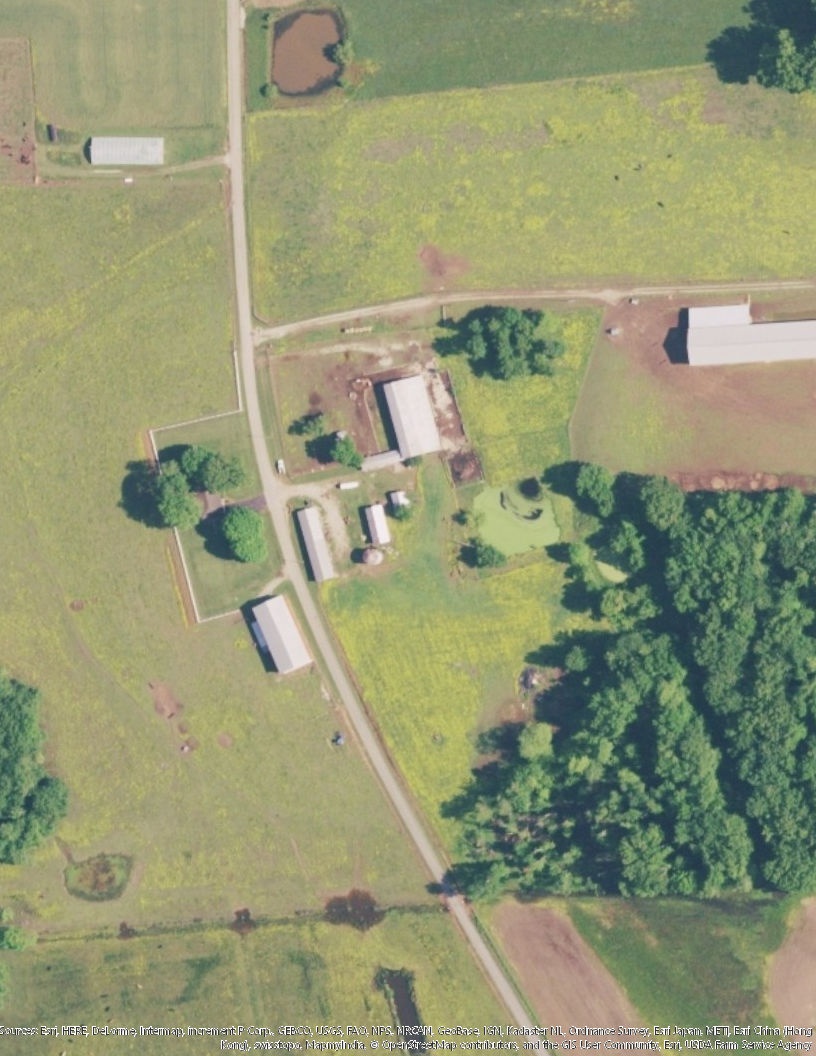cafo: (673, 298, 816, 366), (356, 373, 448, 468), (247, 595, 316, 680), (288, 498, 340, 586)
